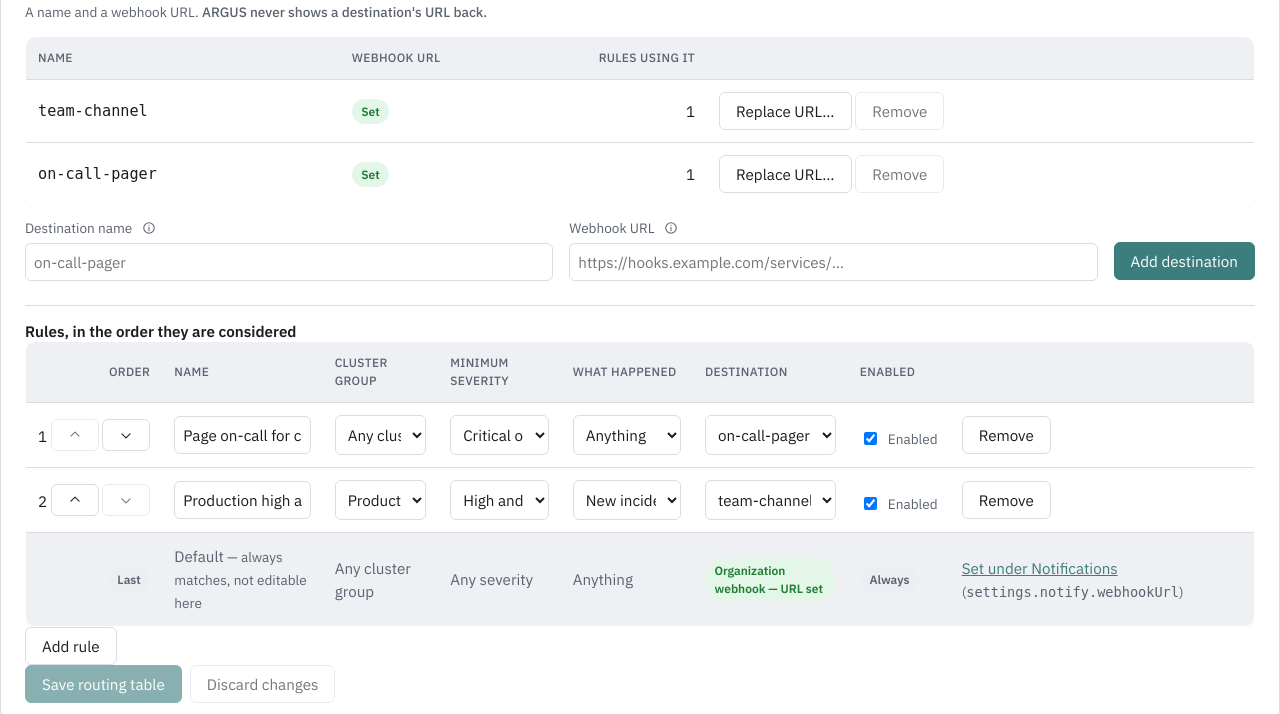
it: NotificationRoutingCard (PROJECT.md F32) › renders the hub's own problem detail when a save is refused
(page scrolled)
Expected: the 1st field showing "Page on-call for criticals" is shown, [174, 416, 311, 454]
Click the button named "Move Production high and above earlier" at (75, 500), box [51, 484, 99, 516]
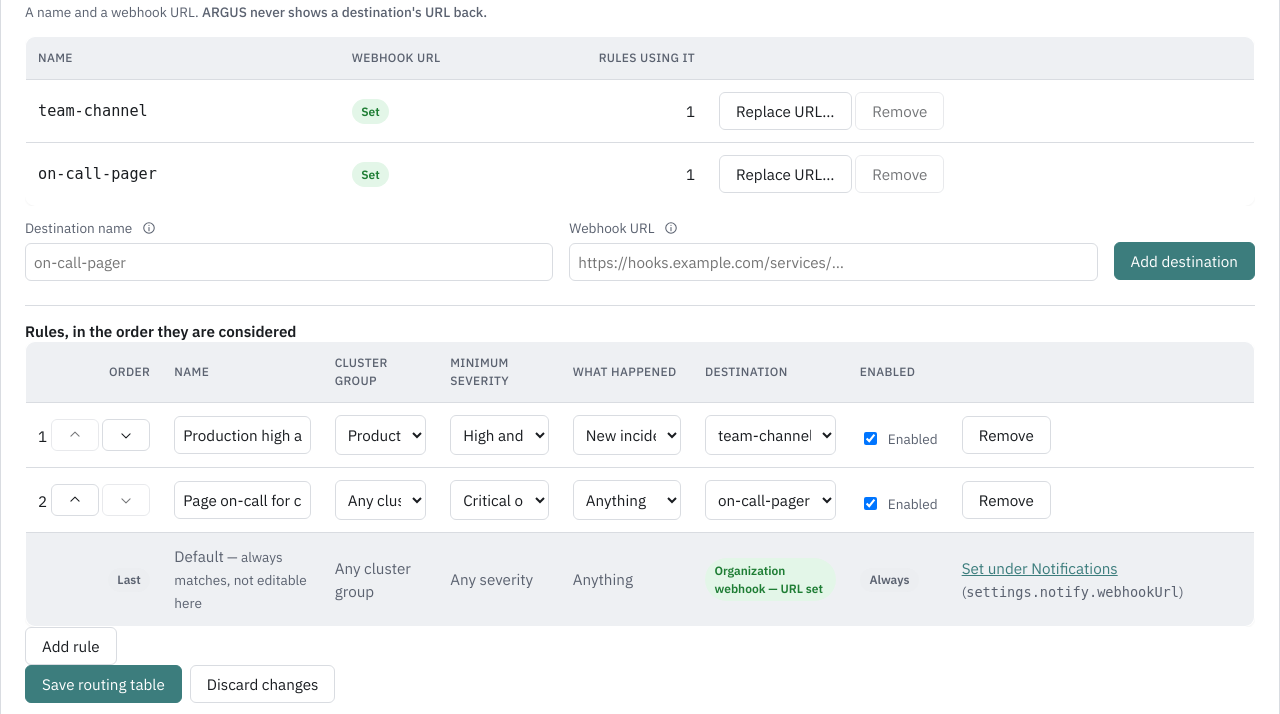
Click the button "Save routing table" at (103, 684), box [25, 665, 182, 703]
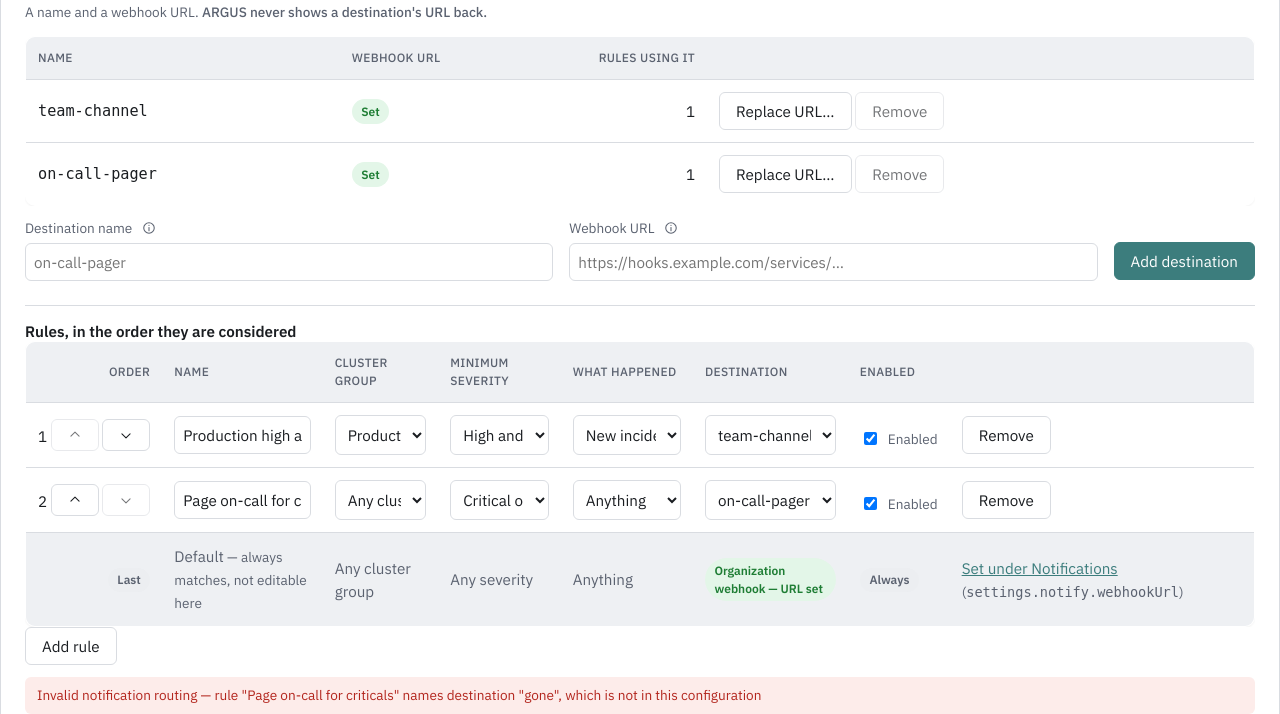
Now the text "which is not in this configuration" is shown, box [37, 686, 761, 704]
